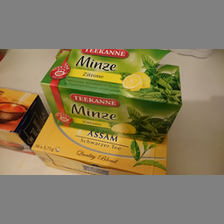tea: (41, 53, 181, 144), (1, 90, 45, 157)
